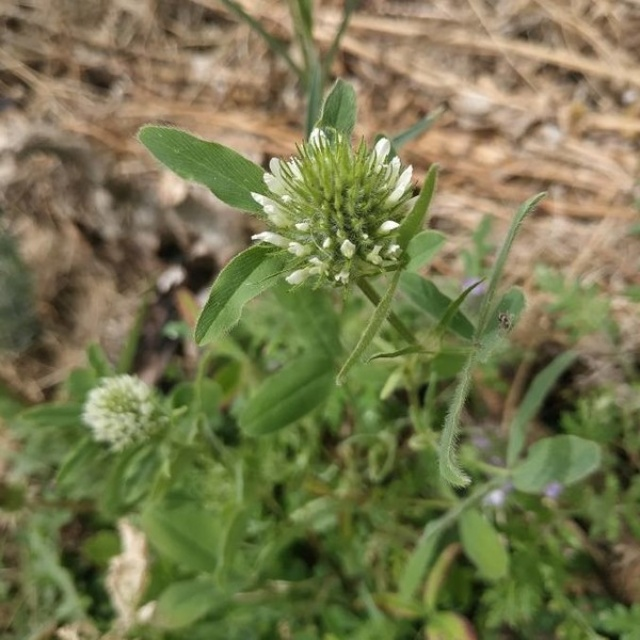obstacle: (159, 49, 581, 550)
